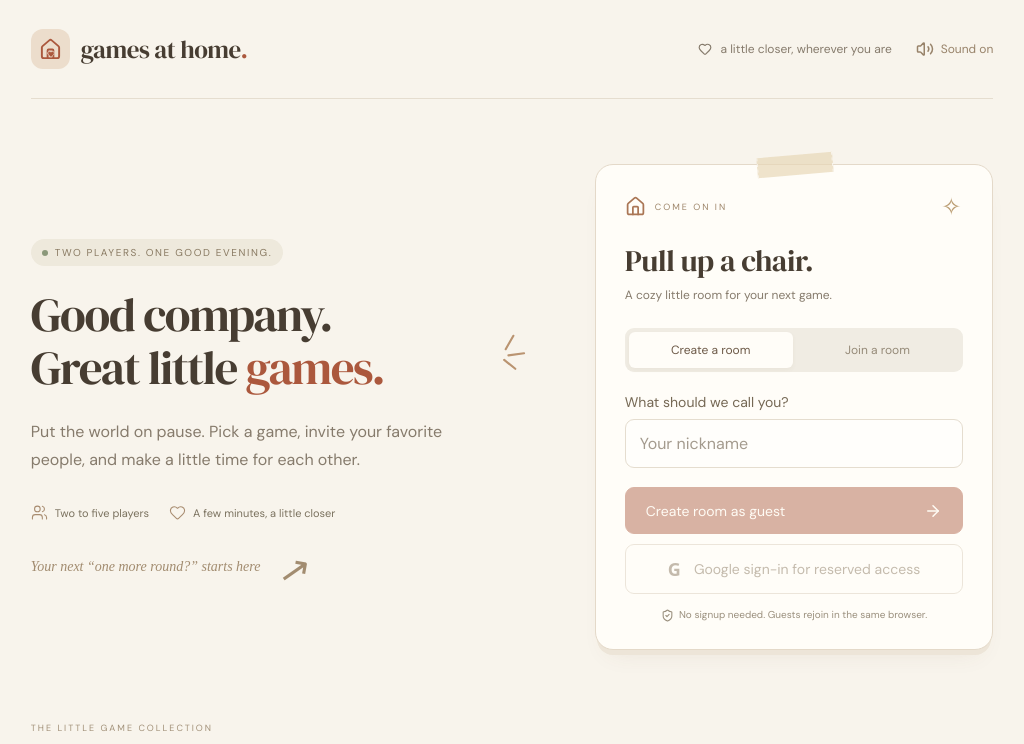
Test case: cozy home and game forms › joins a public invitation as a guest
Later steps or results of the test are not shown.
Click the button "Join a room" at (877, 350), box [796,332,959,368]
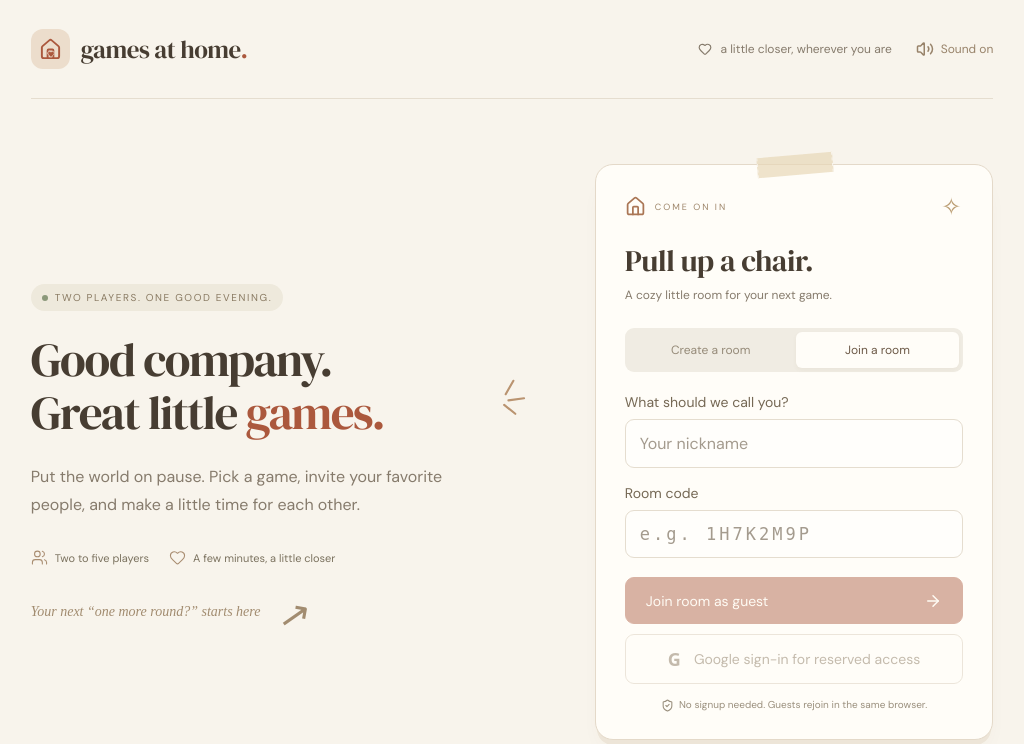
Type "Sam" into the field labelled "What should we call you?" at (794, 444), box [625,419,963,468]
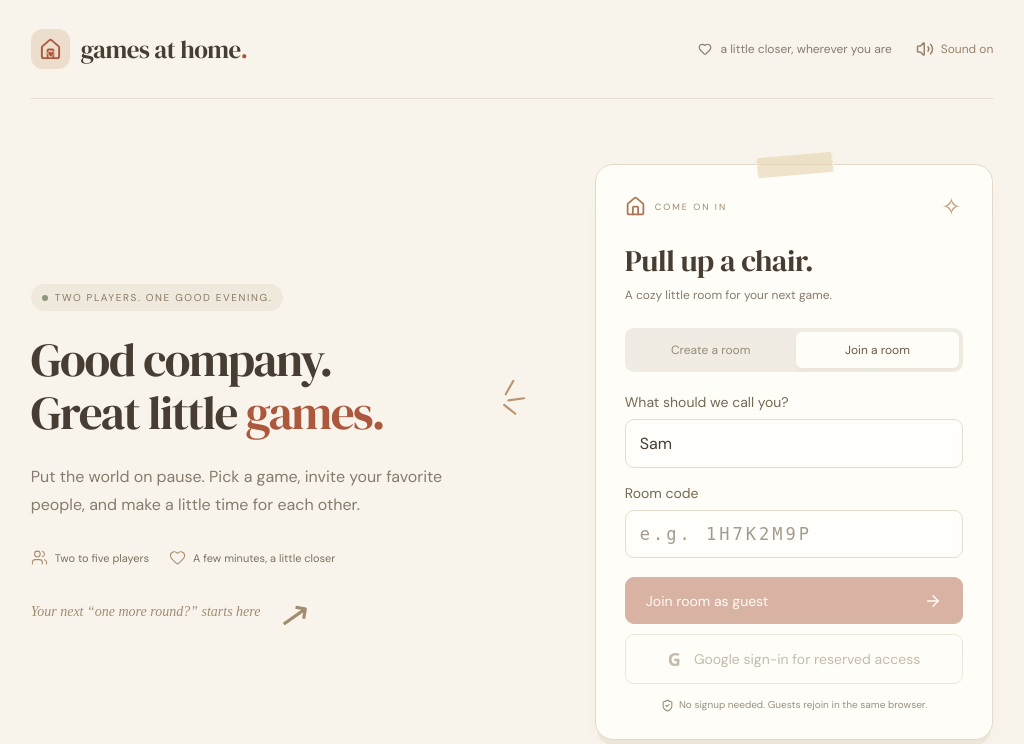
Type "1ABCDEFG" into the field labelled "Room code" at (794, 534), box [625,510,963,558]
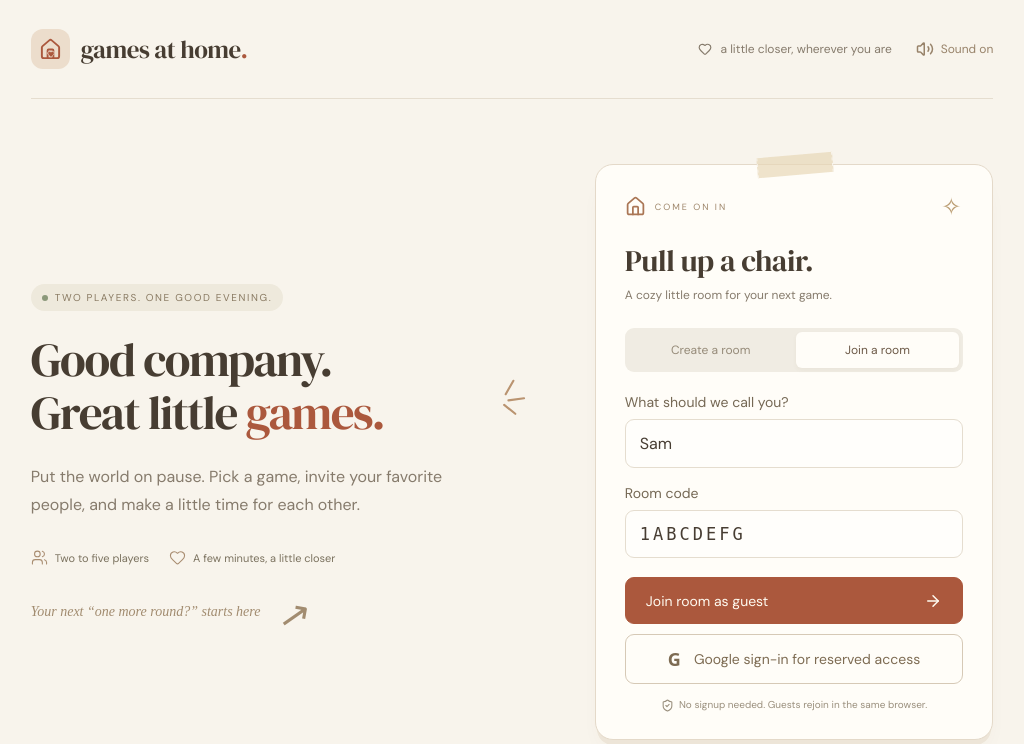
Now the button "Join room as guest" is enabled, box [625,577,963,624]
